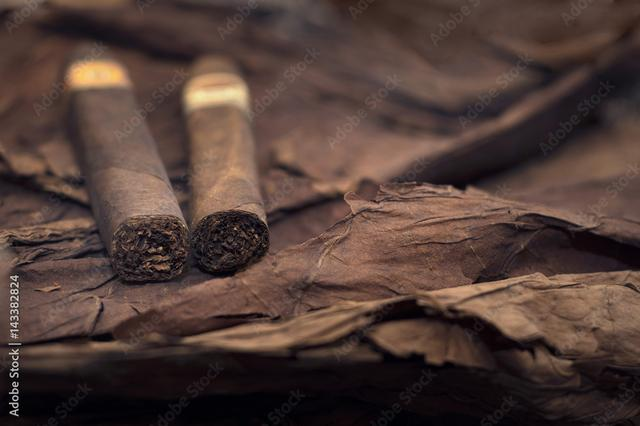Cigar: (62, 52, 190, 283), (179, 52, 271, 275)
